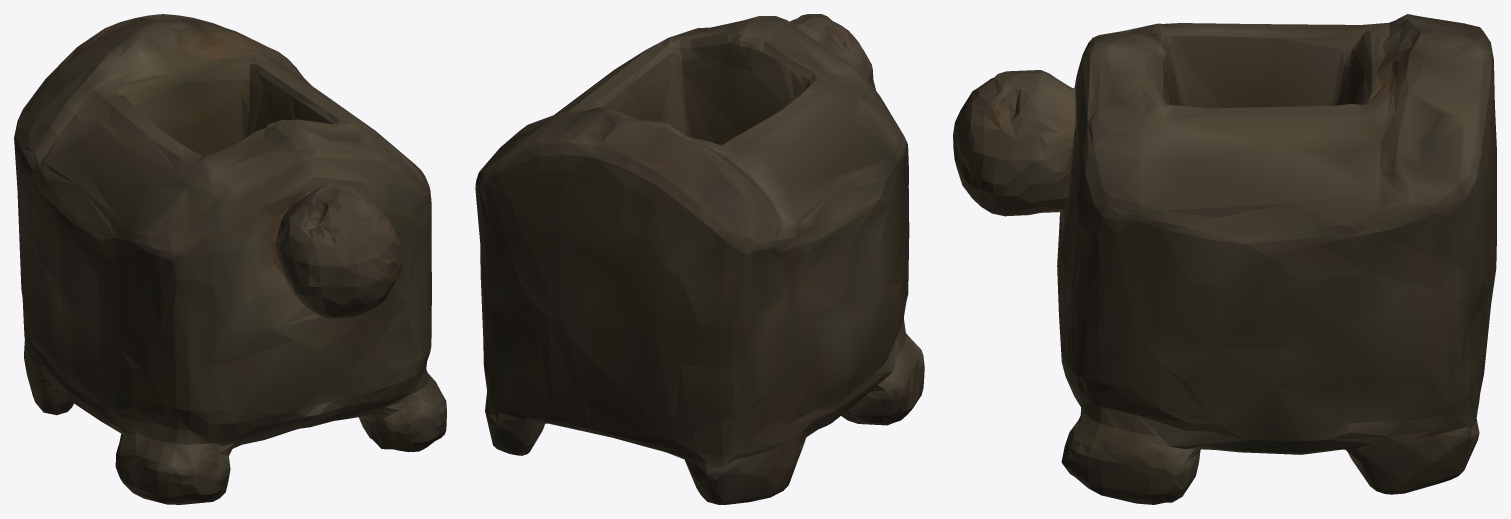
Rendered from lead_stone_inkstone_db671d35.glb.
3 views of the same model, side by side, from view 1: azimuth 30°, elevation 25°; view 2: azimuth 150°, elevation 25°; view 3: azimuth 270°, elevation 25° (orthographic). The views are drawn at different scales.
Visible parts, largest first — view 1: SM_24IN0003_low_SM_24IN0003_low_0; view 2: SM_24IN0003_low_SM_24IN0003_low_0; view 3: SM_24IN0003_low_SM_24IN0003_low_0.
Boxes of the visible parts, x1,y1,x2,y2 form: SM_24IN0003_low_SM_24IN0003_low_0: (14,14,446,504); SM_24IN0003_low_SM_24IN0003_low_0: (475,14,924,504); SM_24IN0003_low_SM_24IN0003_low_0: (953,14,1496,504).
Size of the model in its own units: 0.0607 by 0.0651 by 0.0809.
